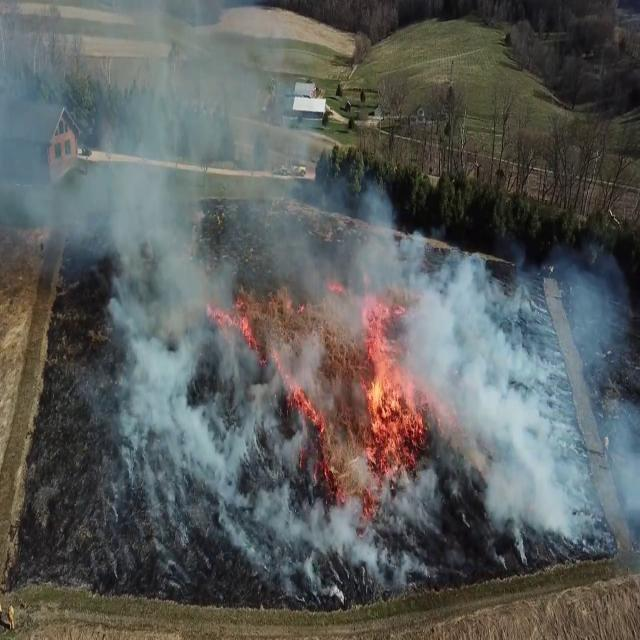Fire: (350, 276, 420, 474), (266, 358, 352, 478)
Smoke: (11, 138, 639, 596), (2, 9, 374, 594)
